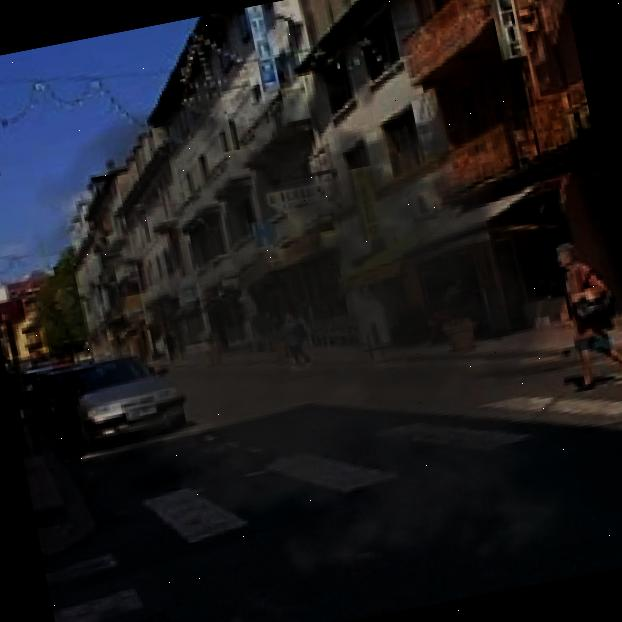smoke: (0, 7, 622, 622)
